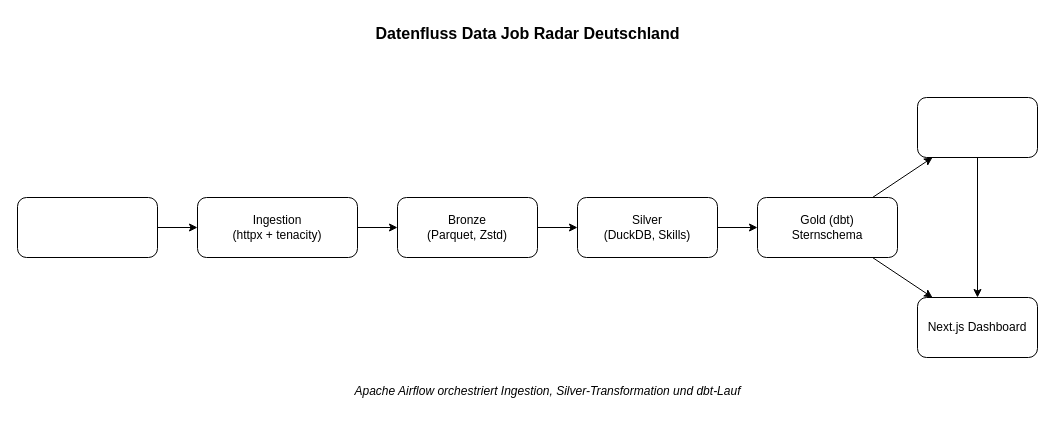
The diagram is 1055 pixels wide and 424 high, and some of its shapes have lost their labels. The shapes that lost their labels are listed below. From the top down, each one's box as (x1, y1, x2, y2) in pixels, then its label:
(916, 96, 1038, 158): FastAPI Backend
(16, 196, 158, 258): Adzuna API
